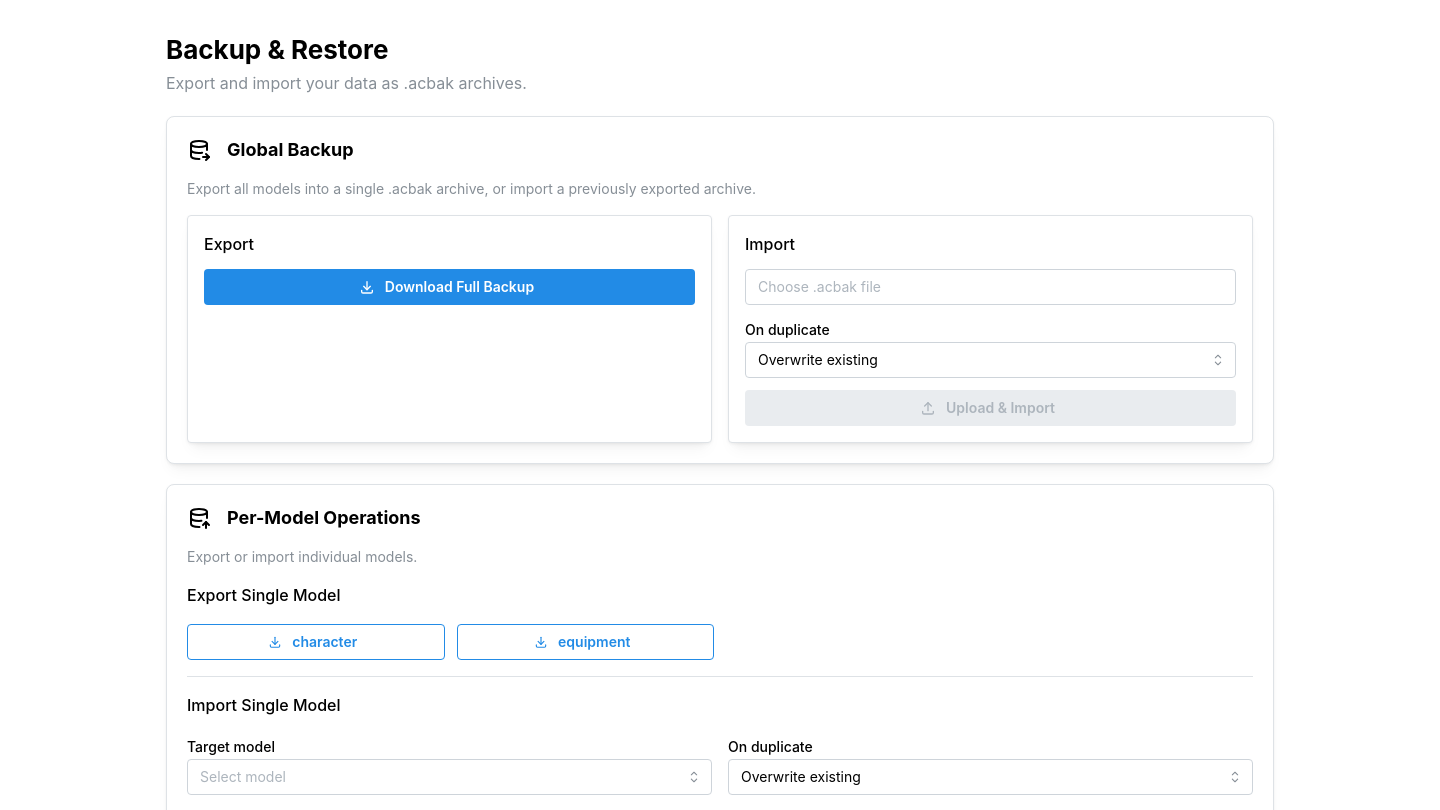
Test: BackupRestore › handles global export error
Click the button "Download Full Backup" at (450, 287), box x1=204 y1=269 x2=695 y2=305
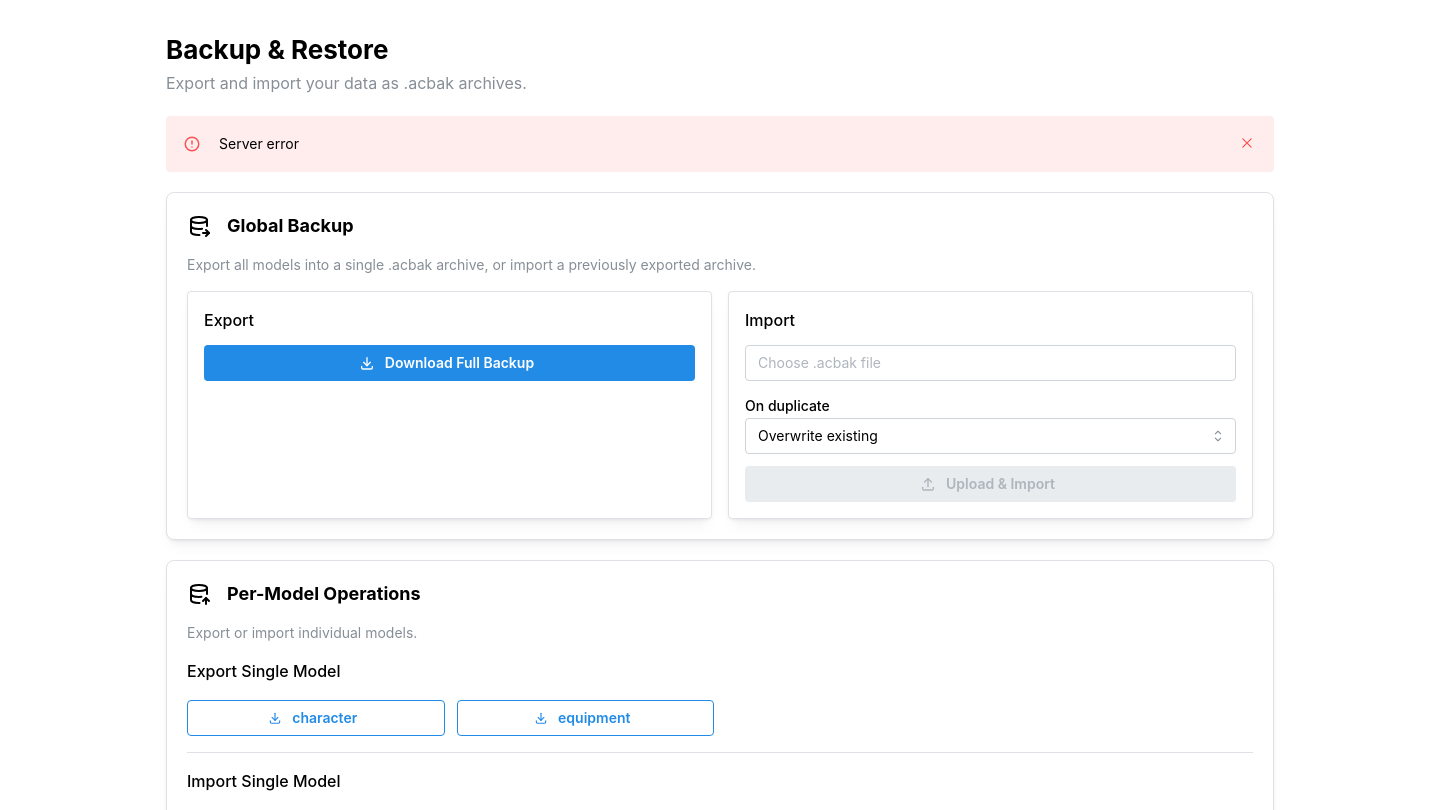
Expected: the text "Server error" is shown, x1=219 y1=135 x2=299 y2=152
